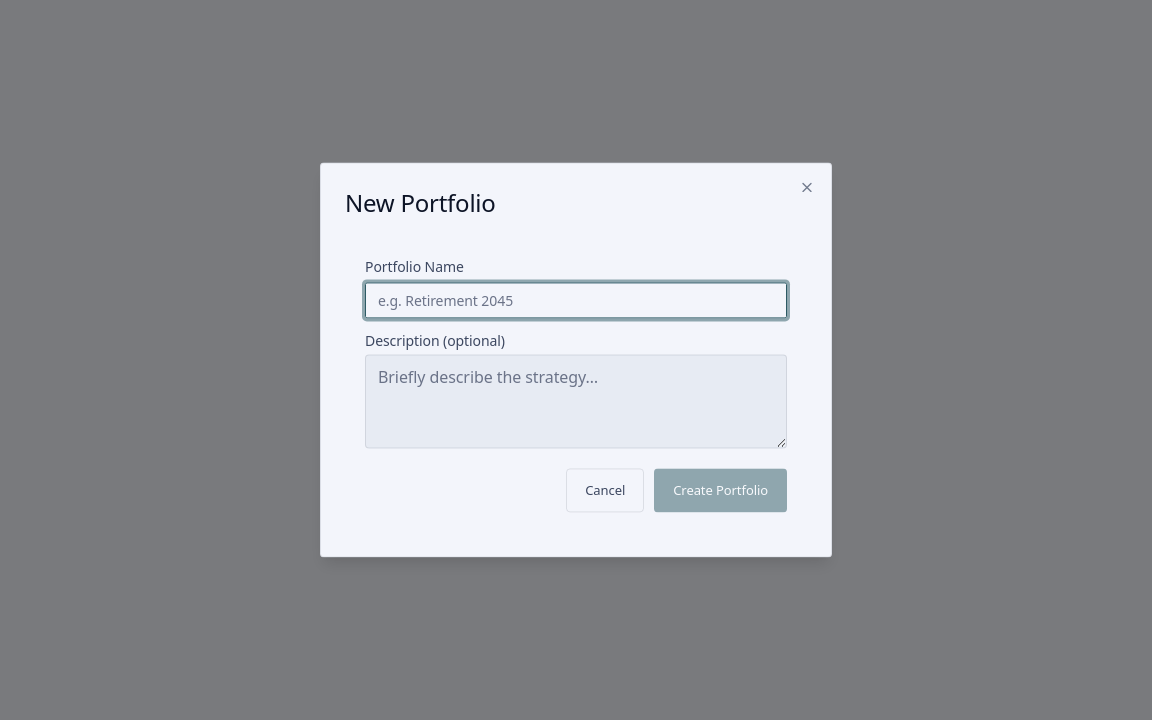
Scenario: PortfolioFormModal › disables submit until a name is entered
Expected: the button "Create Portfolio" is disabled, [654,469,787,513]
Type "Tech Growth" into the field labelled "Portfolio Name". click: [576, 301]
box: [365,283,787,319]
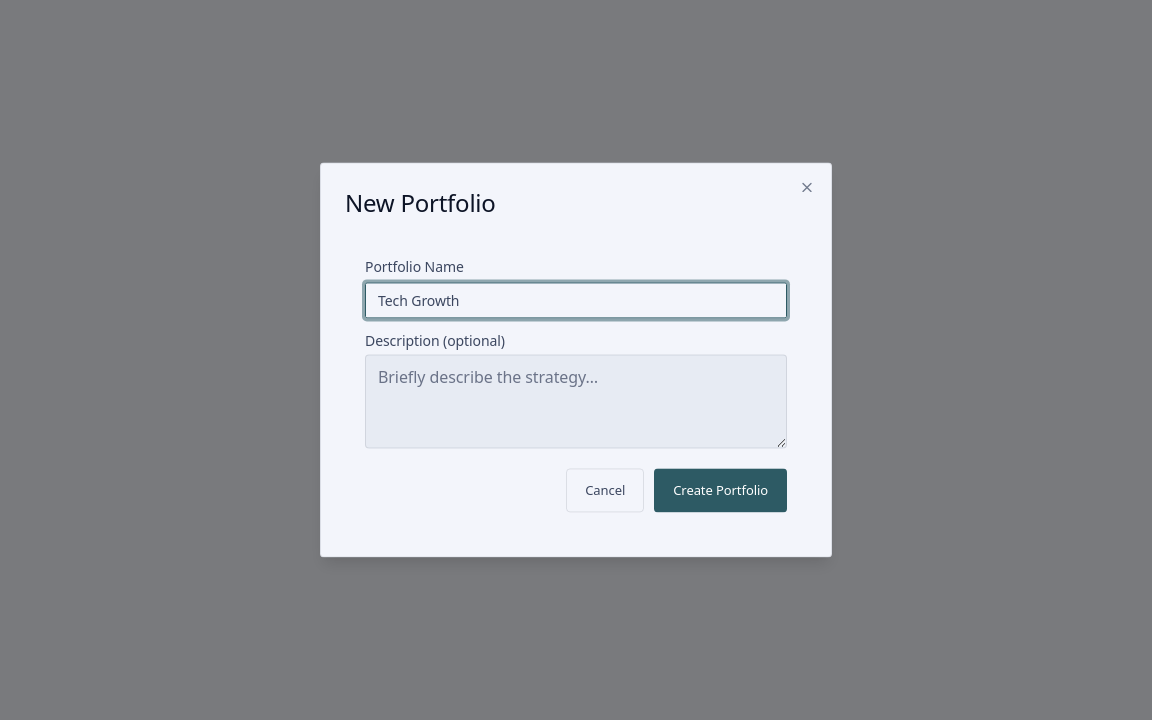
Result: the button "Create Portfolio" is enabled at [654,469,787,513]
